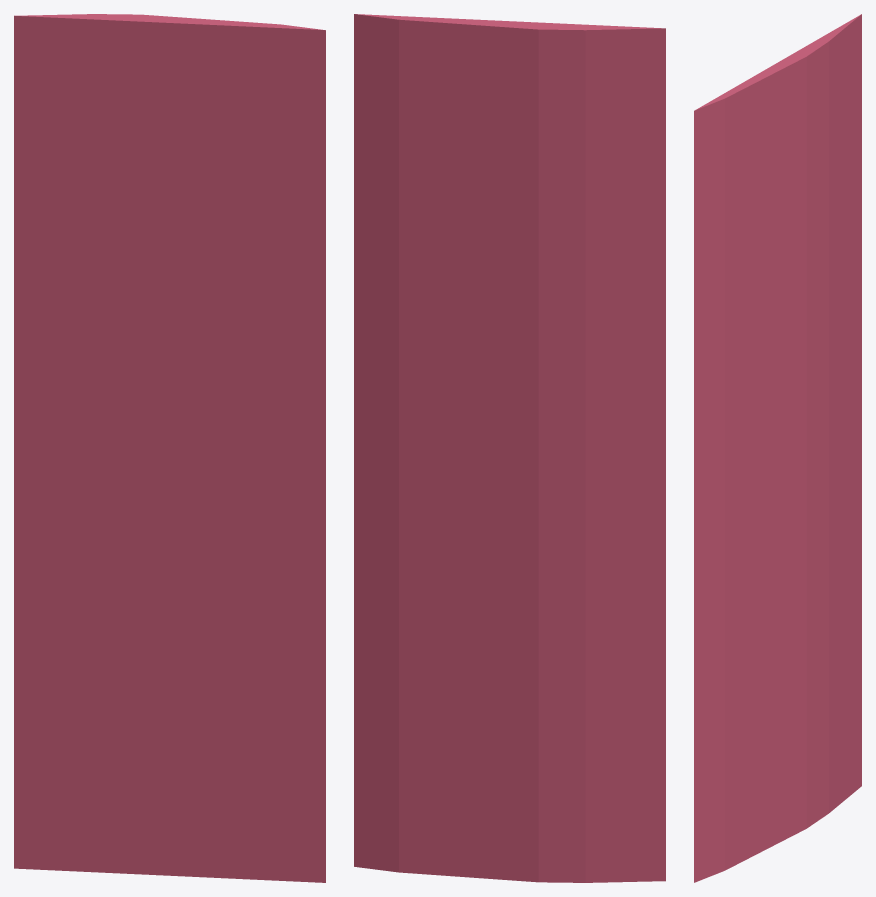
The model's file is simple_example_hole_part_18.obj.
The picture shows the model from 3 angles, left to right: view 1: azimuth 30°, elevation 25°; view 2: azimuth 210°, elevation 25°; view 3: azimuth 270°, elevation 25°; orthographic projection. The views are drawn at different scales.
Bounding box in the file's own units: 4.65 × 17.31 × 3.41.
